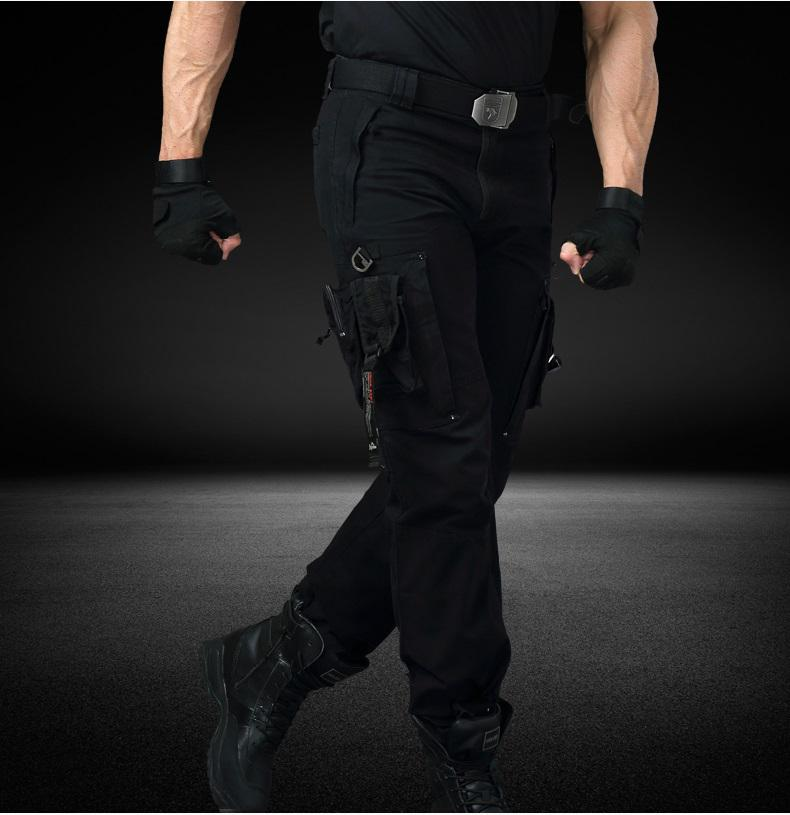pants: (253, 69, 563, 720)
